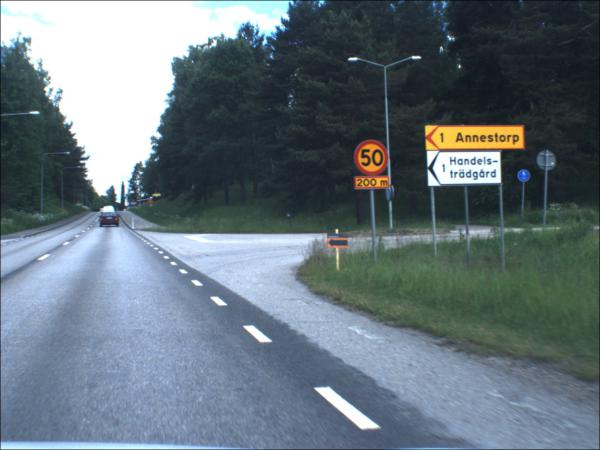50_SIGN: (355, 139, 391, 176)
PRIORITY_ROAD: (151, 205, 155, 209)
WARNING: (150, 199, 155, 205)
